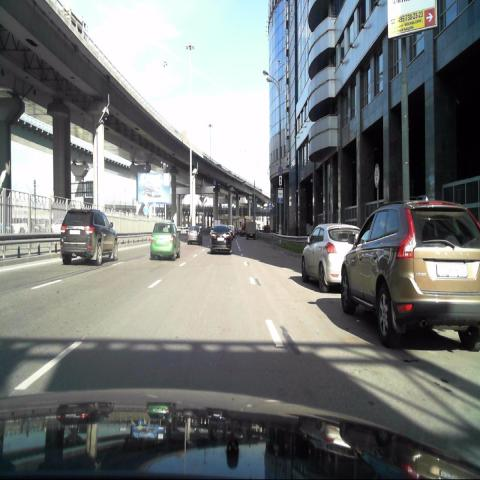3_13: (374, 162, 380, 189)
3_27: (277, 164, 284, 175)
7_15: (277, 187, 284, 203)
